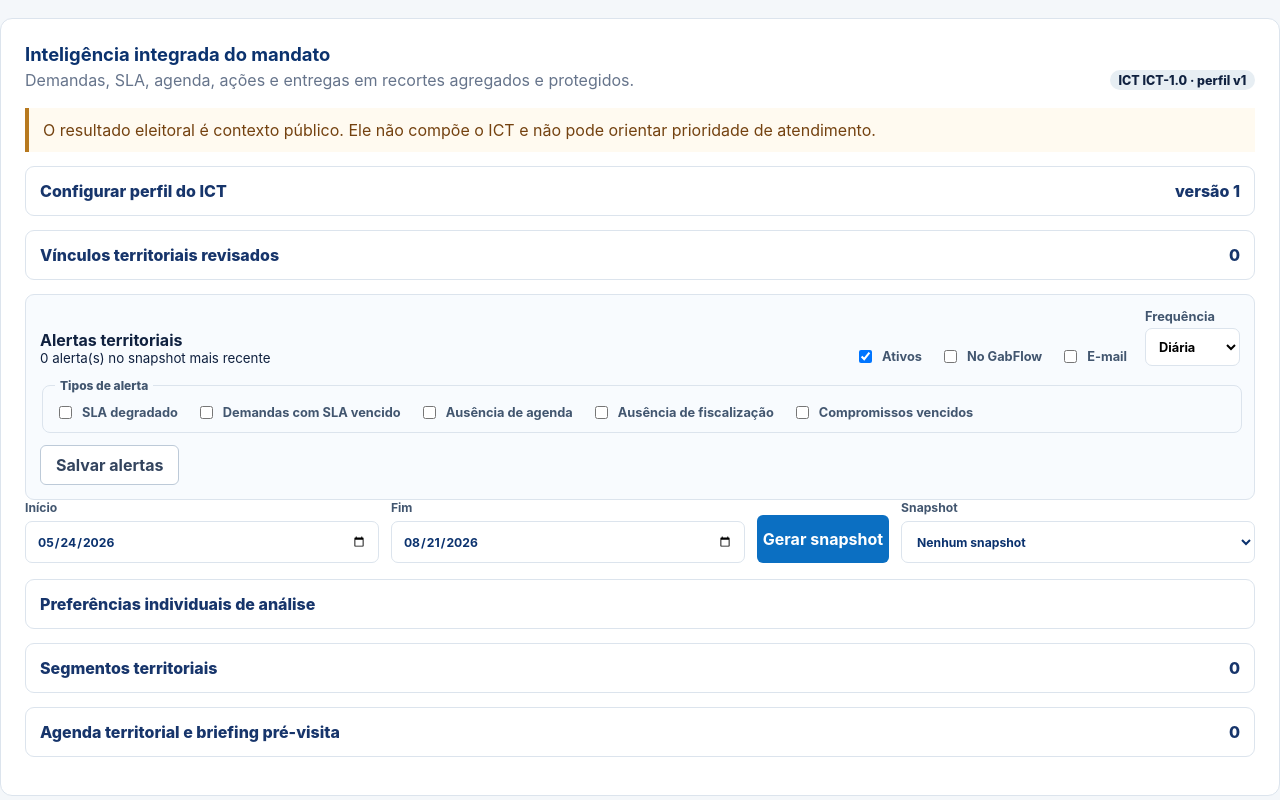
Scenario: gera snapshot integrado sem usar votos no ICT
The image size is (1280, 800).
Check: the text "ICT ICT-1.0 · perfil v1" is shown, box [1110,70,1255,90]
Click the button "Gerar snapshot". click: x=823, y=539
box: [757,515,889,563]
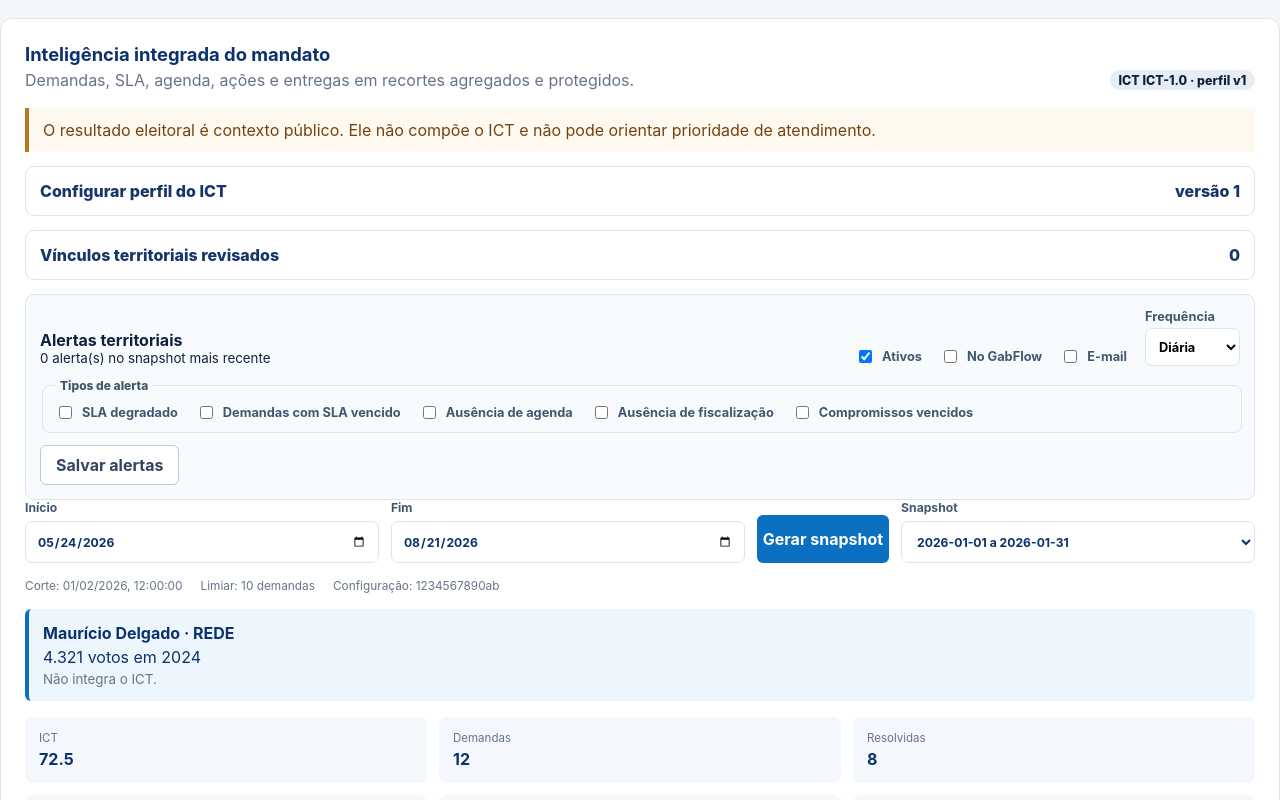
Check: the text "Maurício Delgado · REDE" is shown, box [43,623,235,643]
Check: the text "72.5" is shown, box [39,749,74,769]
